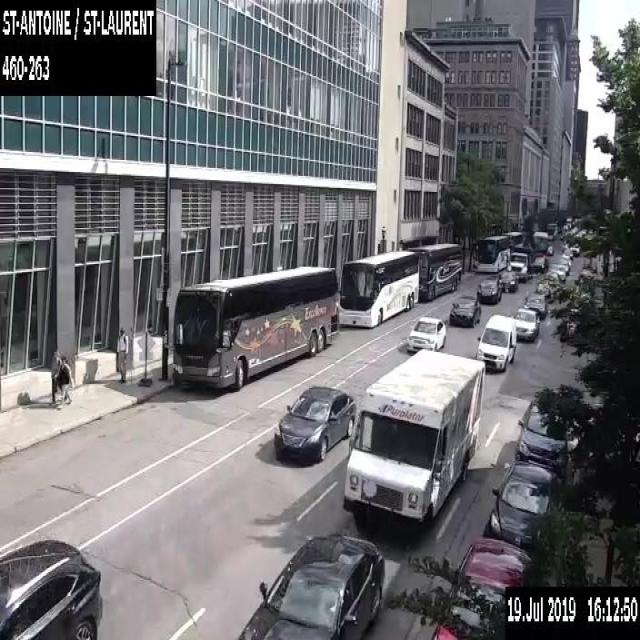bus: (171, 264, 335, 390), (338, 249, 418, 326), (407, 242, 462, 299), (472, 234, 509, 272), (502, 230, 525, 253), (531, 230, 547, 252)
construction: (134, 329, 156, 387), (581, 258, 602, 274)
pedestrian: (57, 356, 73, 409), (48, 349, 62, 406), (116, 327, 129, 384)
vehicle: (342, 348, 485, 525), (238, 532, 388, 639), (0, 534, 104, 638), (430, 535, 532, 639), (486, 458, 563, 552), (272, 385, 354, 467), (514, 395, 568, 469), (476, 313, 516, 371), (406, 316, 446, 352), (506, 240, 537, 280), (448, 295, 481, 326), (512, 306, 540, 341), (476, 277, 501, 303), (523, 292, 548, 318), (496, 270, 518, 291), (529, 255, 548, 272), (557, 260, 570, 272), (554, 266, 564, 280), (569, 242, 579, 255), (562, 248, 572, 259), (560, 255, 570, 265), (546, 244, 553, 254)
